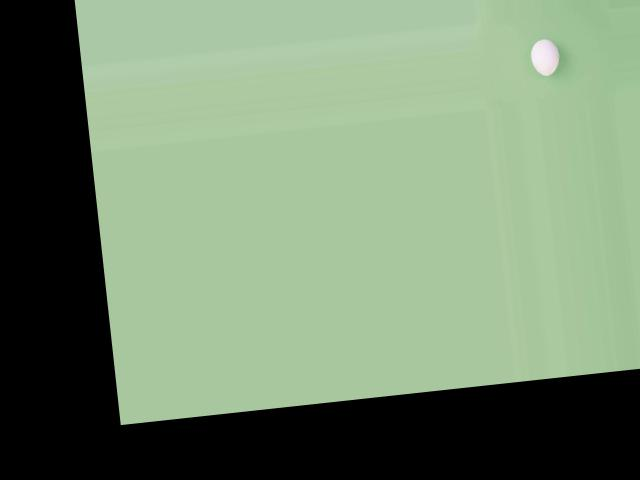egg: (528, 36, 561, 77)
